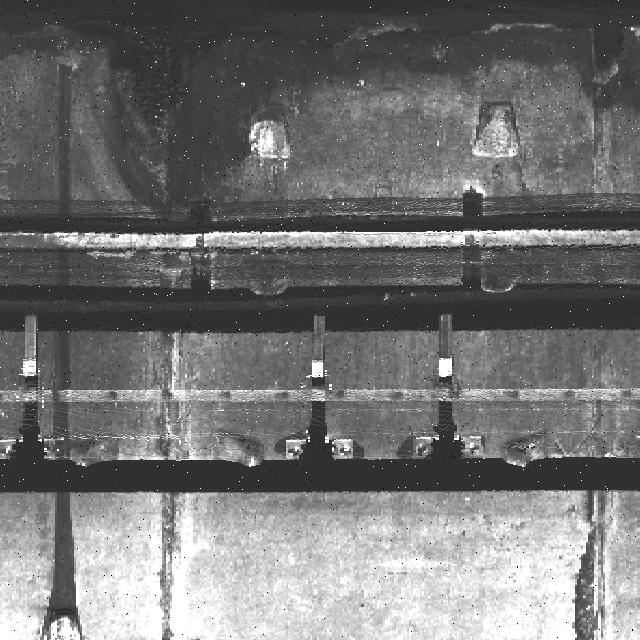leakage: (0, 0, 635, 214), (48, 59, 79, 639), (564, 490, 619, 639)
